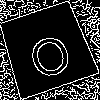O: (22, 23, 75, 81)
